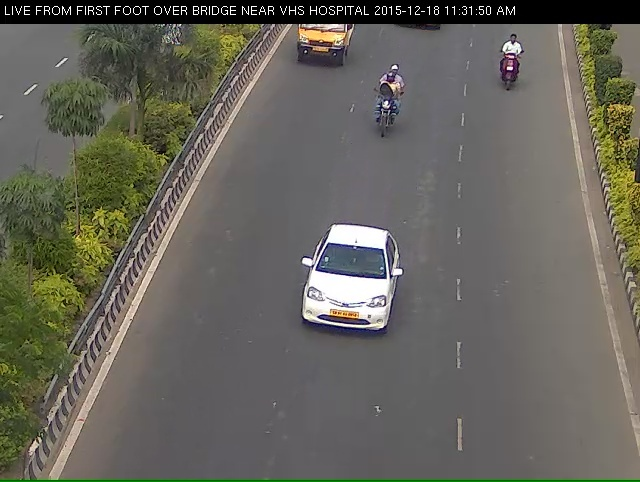Car: (269, 246, 411, 394), (282, 20, 360, 82)
Person: (358, 76, 407, 156), (504, 44, 530, 103)
